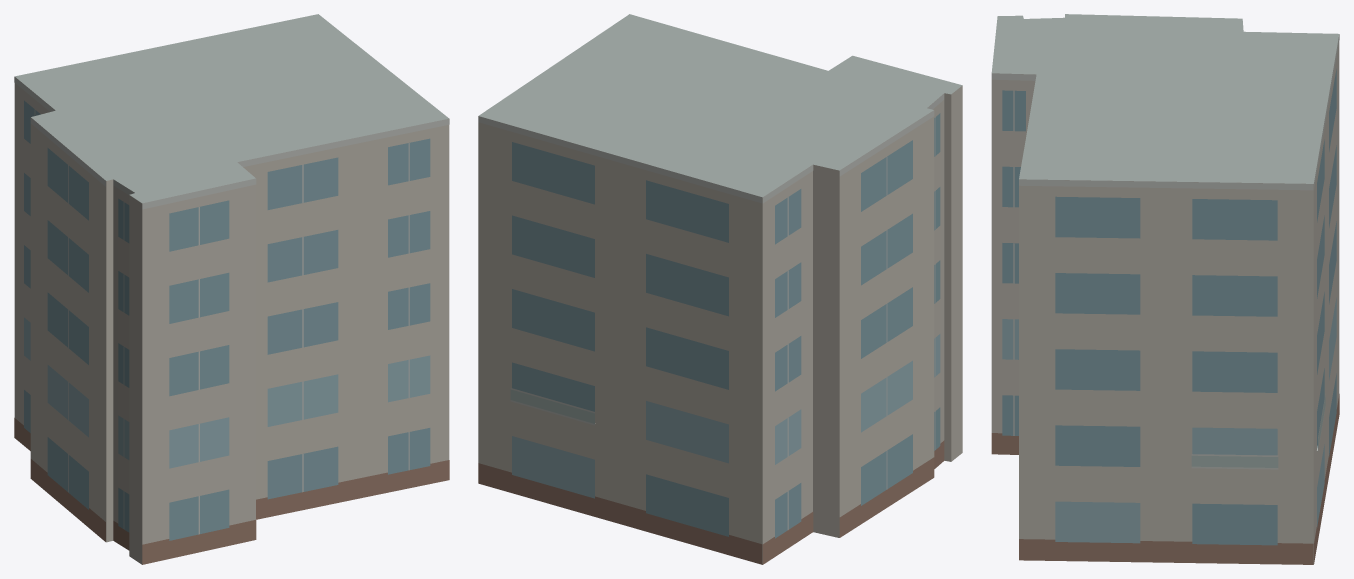
File: survey-upis-32540840.glb
3 views of the same model, side by side, from view 1: azimuth 30°, elevation 25°; view 2: azimuth 150°, elevation 25°; view 3: azimuth 270°, elevation 25° (orthographic). The views are drawn at different scales.
Visible parts, largest first — view 1: survey-upis-32540840.tmp; view 2: survey-upis-32540840.tmp; view 3: survey-upis-32540840.tmp.
Part boxes in pixels (bbox=[...]): survey-upis-32540840.tmp: bbox=[14, 14, 449, 564]; survey-upis-32540840.tmp: bbox=[478, 14, 962, 564]; survey-upis-32540840.tmp: bbox=[991, 14, 1339, 564].
Bounding box in the file's own units: 13.78 × 14.4 × 11.92.
